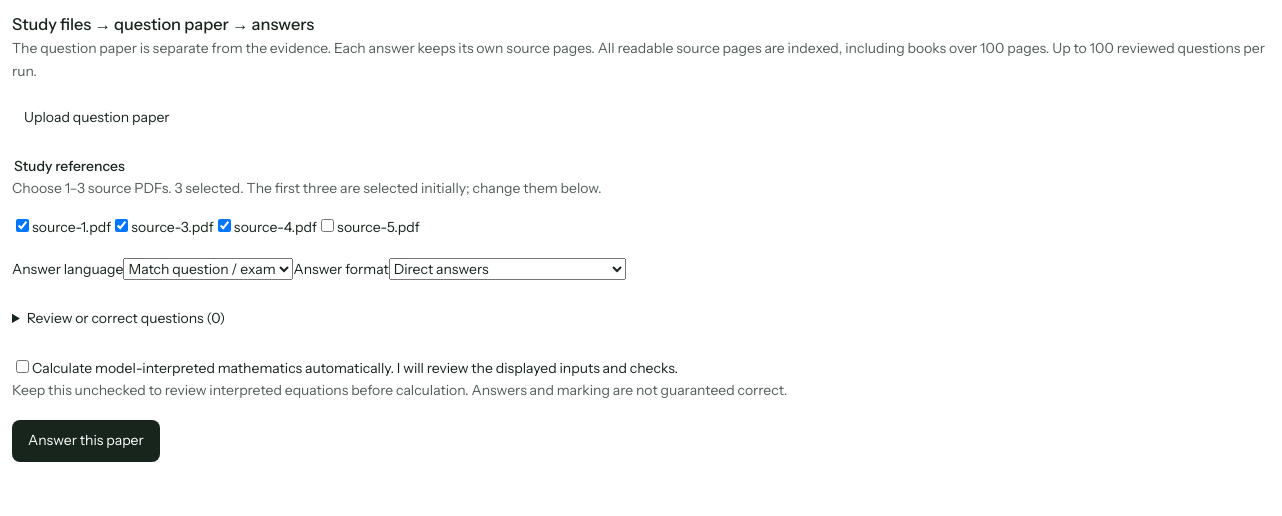
Scenario: explains the reference limit and allows deselection to recover
Expected: the text "Choose 1–3 source PDFs. 3 selected" is shown, [12,179,602,197]
Click the checkbox labelled "source-5.pdf" at (328, 225), box [321,219,334,232]
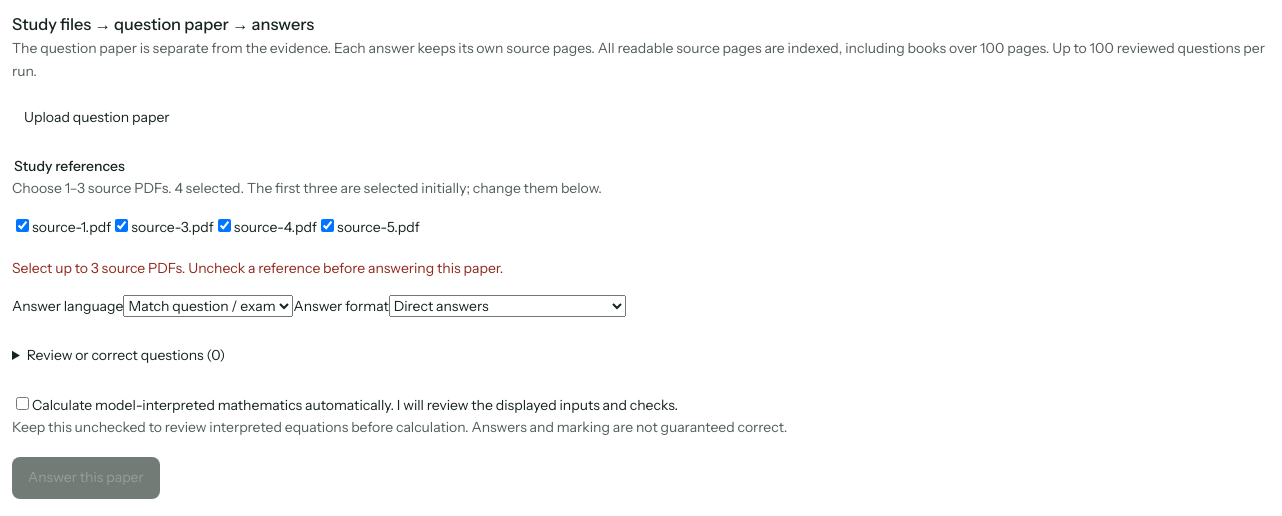
Expected: the message shows "Uncheck a reference", [12,259,503,277]
Expected: the button "Answer this paper" is disabled, [12,457,160,499]
Click the checkbox labelled "source-1.pdf" at (22, 225), box [16,219,29,232]
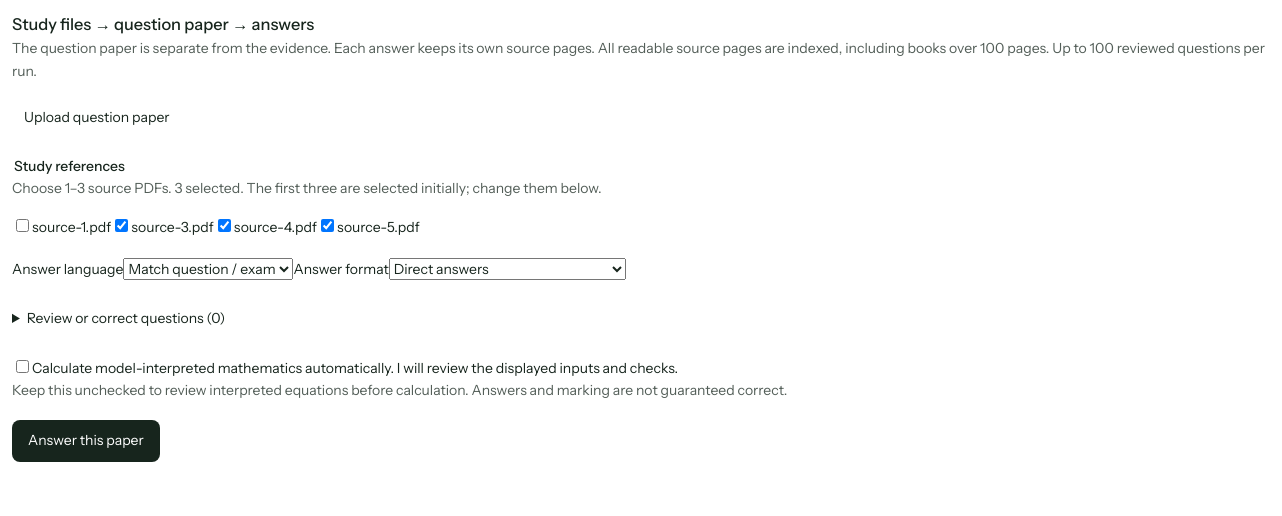
Expected: the button "Answer this paper" is enabled, [12,420,160,462]
